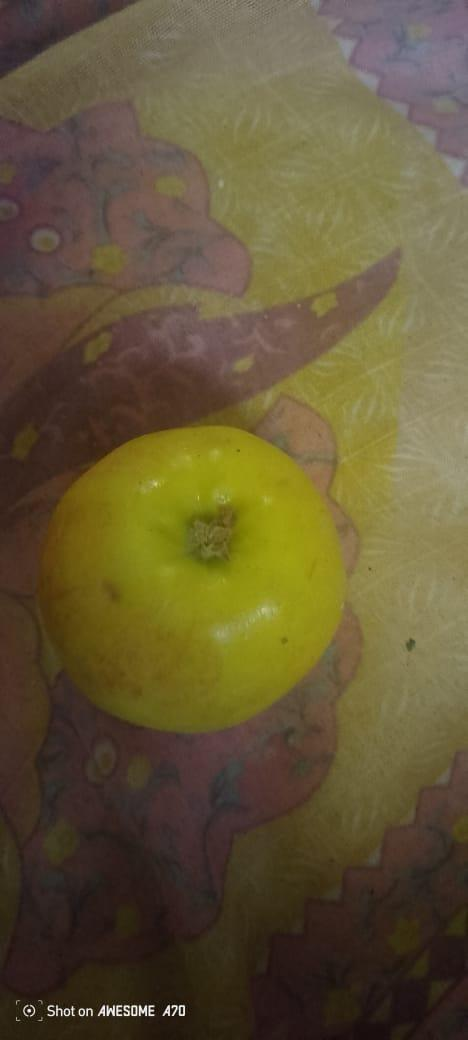non-mango: (37, 428, 336, 736)
